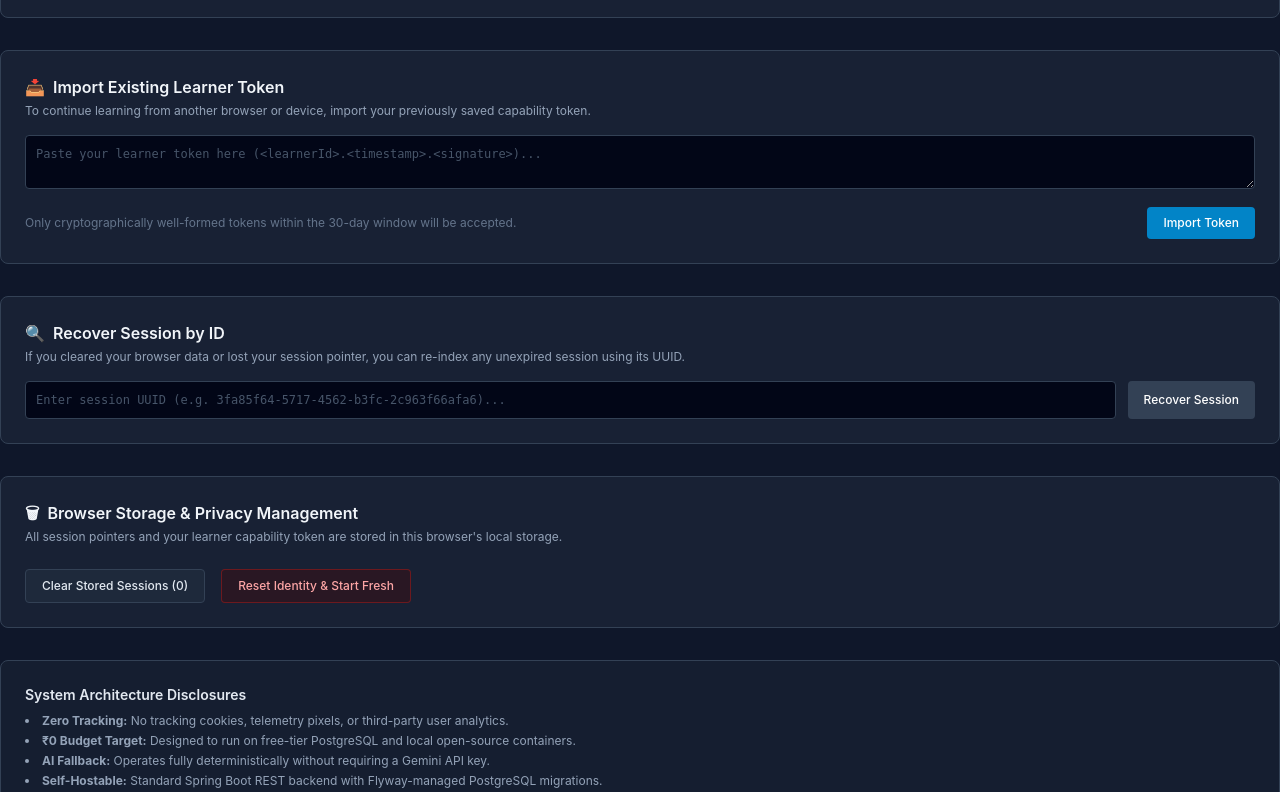
Test case: SettingsView Component › handles session recovery errors on 404/410 and 403
(page scrolled)
Type "11111111-2222-3333-4444-555555555555" into the field with test id "input-recovery-session-id".
click(570, 400); type("11111111-2222-3333-4444-555555555555")  # box x1=25 y1=381 x2=1116 y2=419
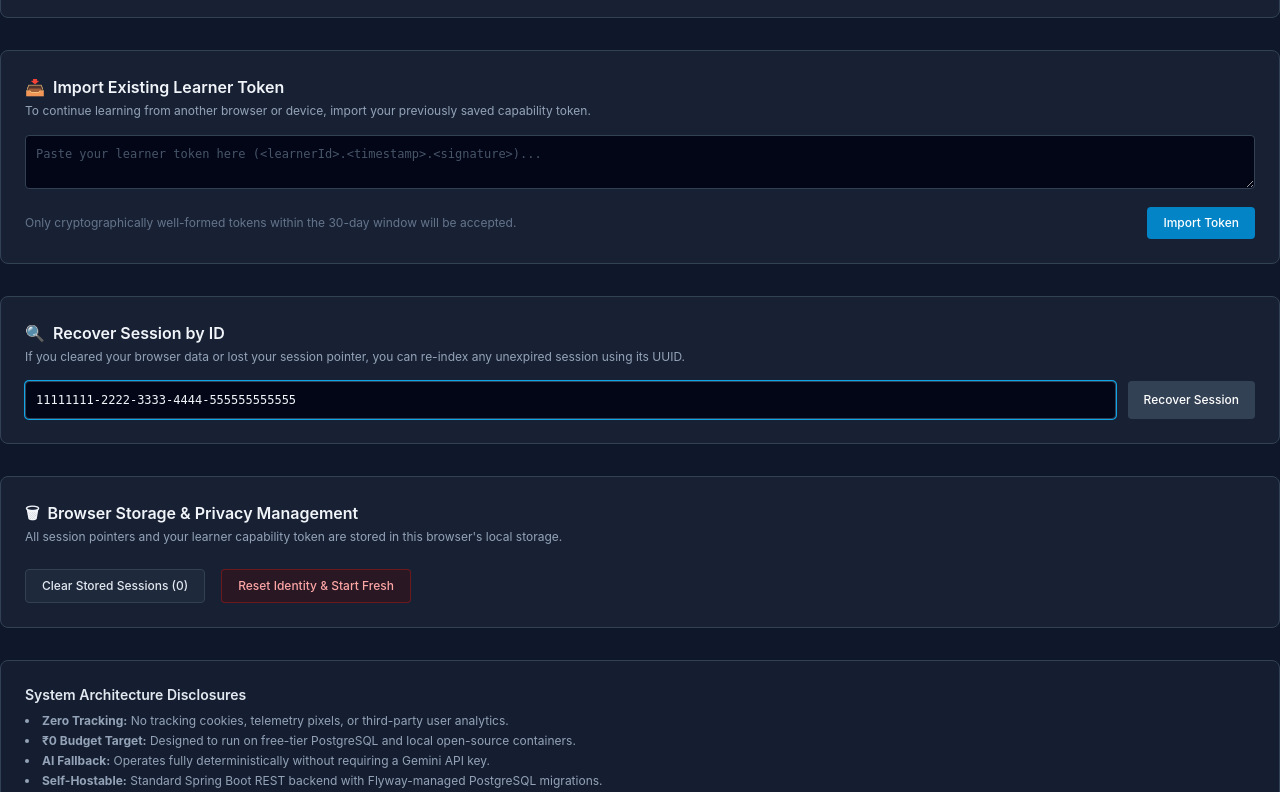
Click the button with test id "btn-recover-session".
click(1191, 400)  # box x1=1128 y1=381 x2=1255 y2=419
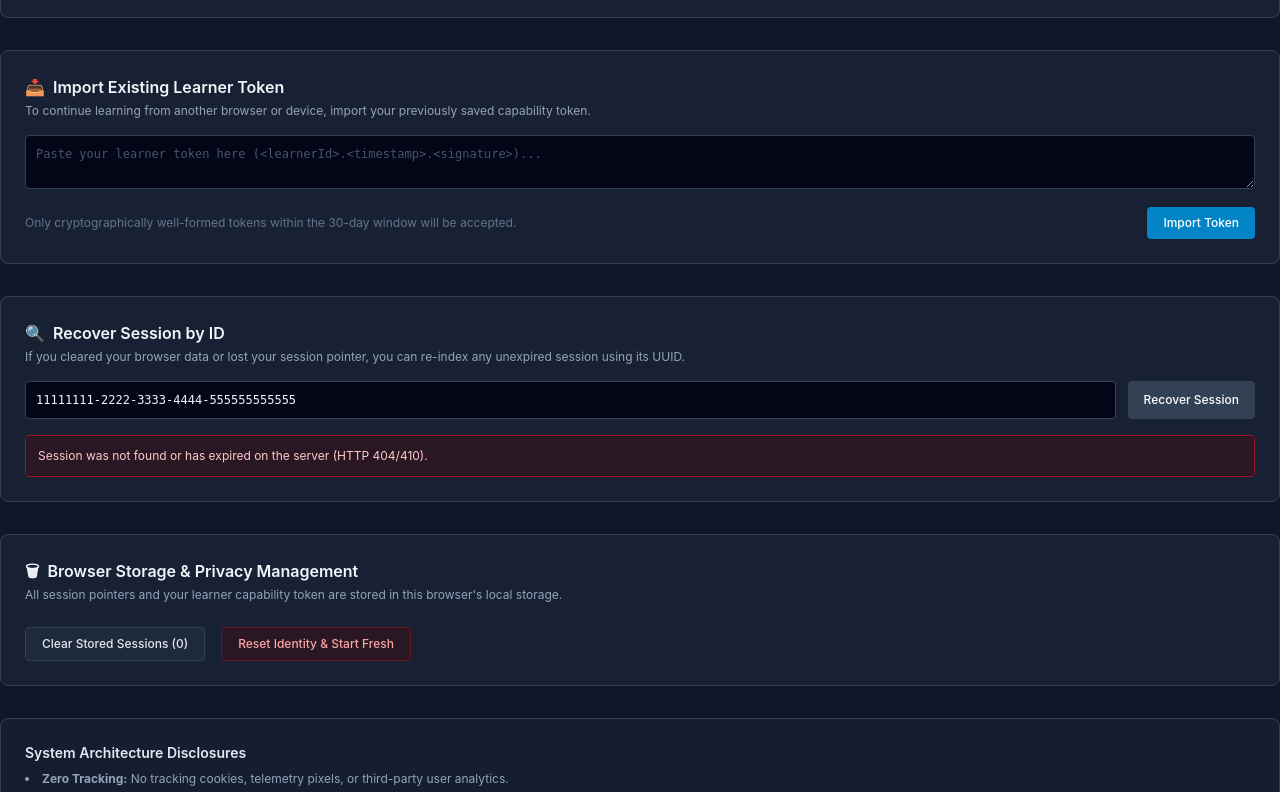
Expected: the text "Session was not found or has expired on the server (HTTP 404/410)." is shown, x1=25 y1=435 x2=1255 y2=477
Test 403
Replace the text in the field with test id "input-recovery-session-id" with "22222222-3333-4444-5555-666666666666" at (570, 400), box x1=25 y1=381 x2=1116 y2=419
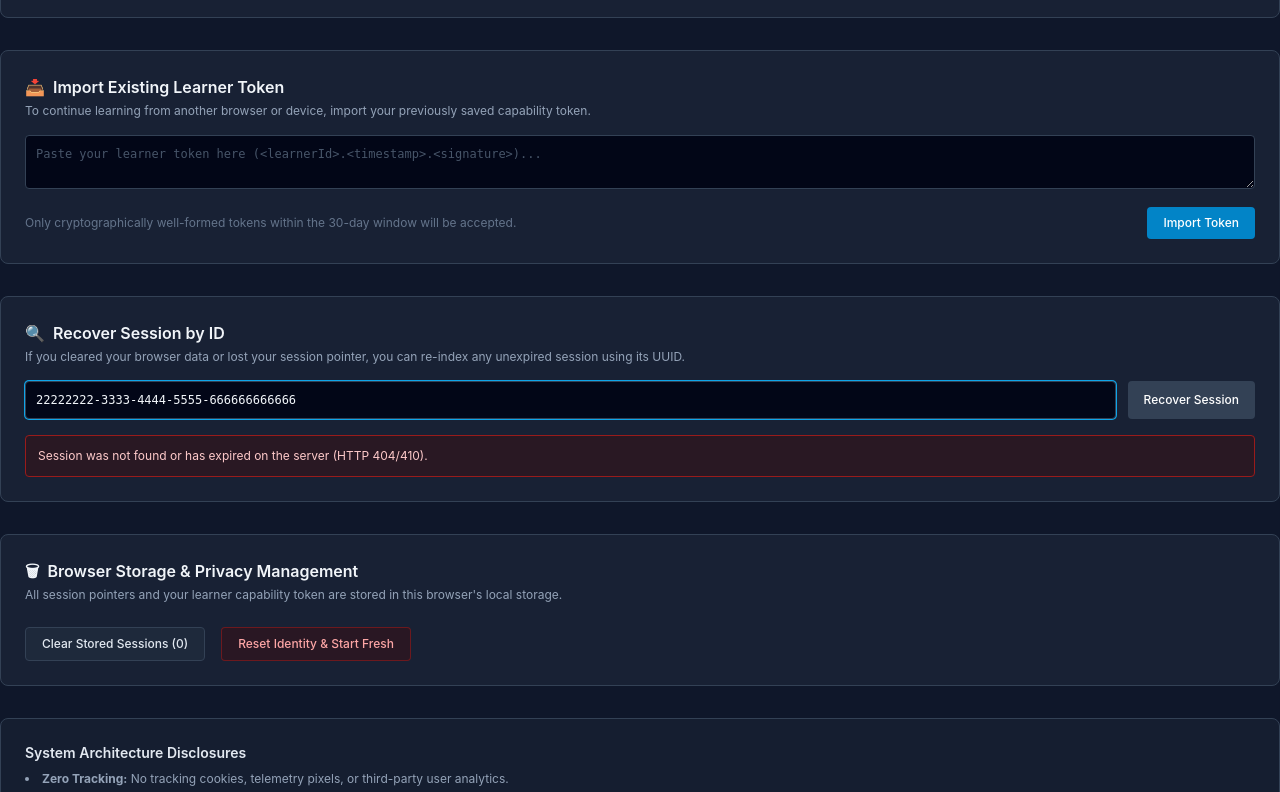
Click the button with test id "btn-recover-session".
click(1191, 400)  # box x1=1128 y1=381 x2=1255 y2=419
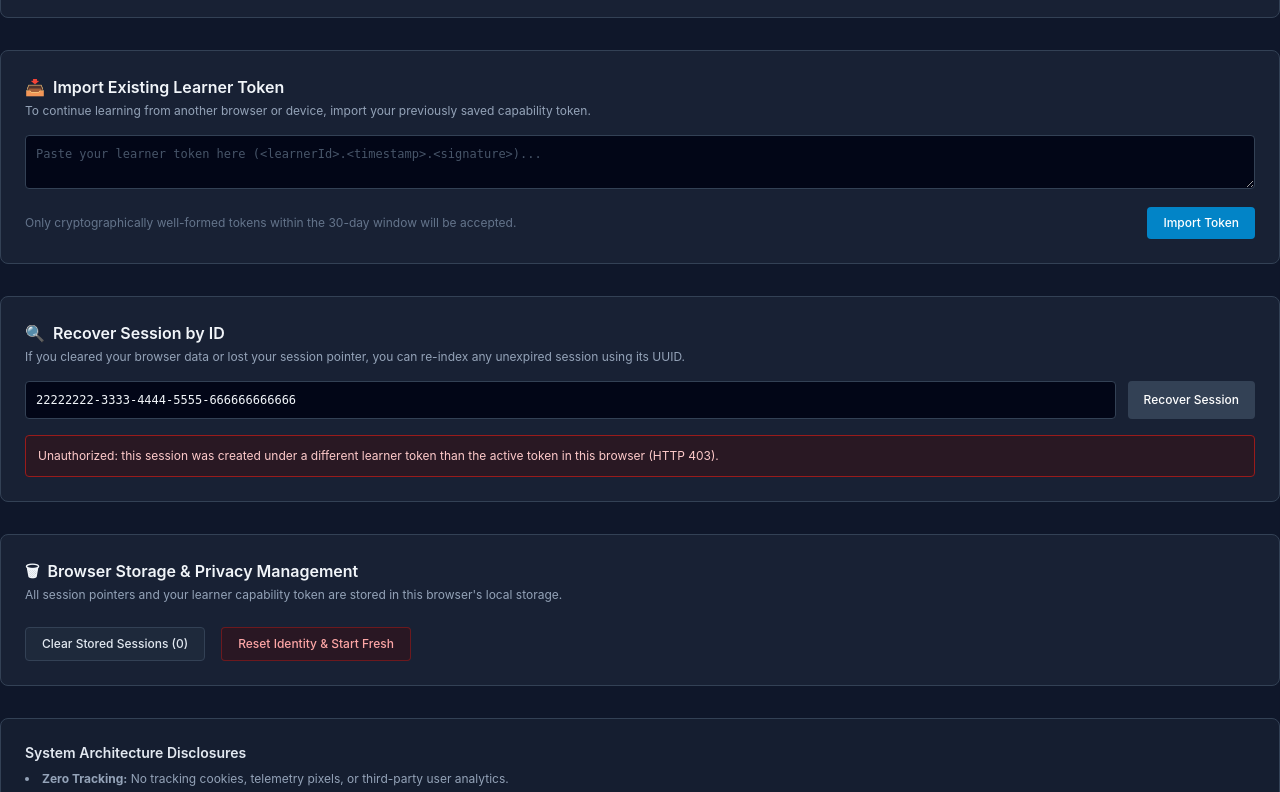
Expected: the text "Unauthorized: this session was created under a different learner token than the active token in this browser (HTTP 403)." is shown, x1=38 y1=448 x2=719 y2=463
